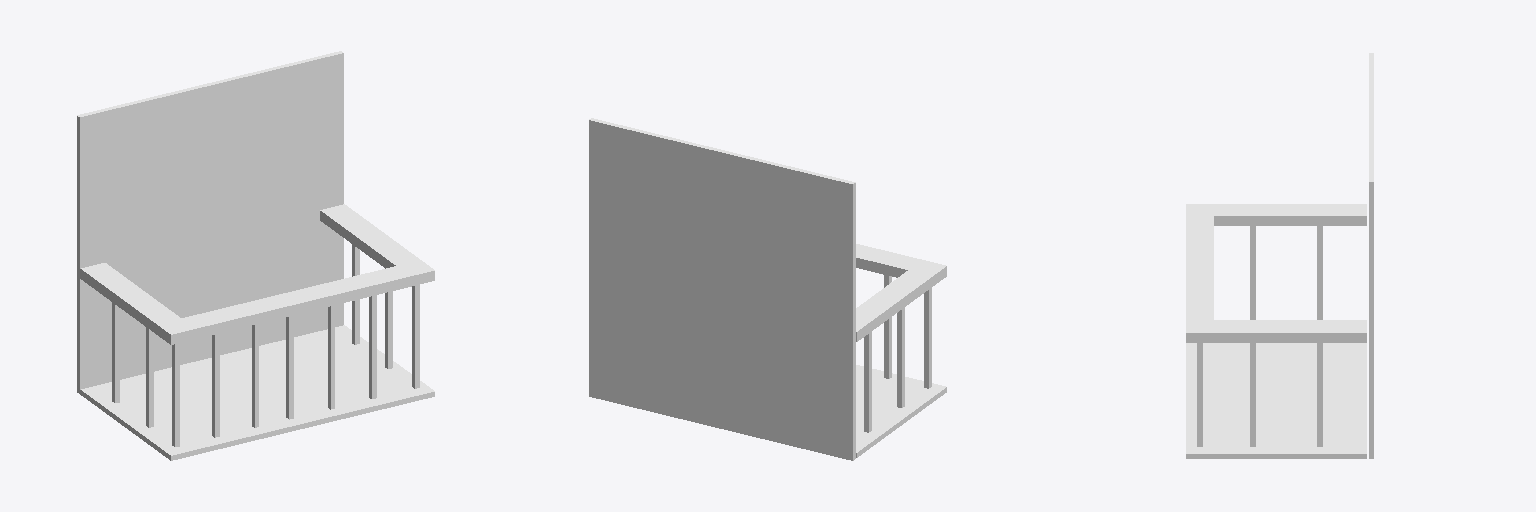
The model's file is balcony2-1-lod2.obj.
The picture shows the model from 3 angles: view 1: azimuth 30°, elevation 25°; view 2: azimuth 150°, elevation 25°; view 3: azimuth 270°, elevation 25°; orthographic projection.
Parts seen in each view (by area): view 1: lod2; view 2: lod2; view 3: lod2.
Part boxes in pixels (left/top/right/bottom): lod2: left=77, top=51, right=434, bottom=460; lod2: left=589, top=118, right=946, bottom=460; lod2: left=1186, top=53, right=1373, bottom=458.
Size of the model in its own units: 16 by 16 by 9.9.